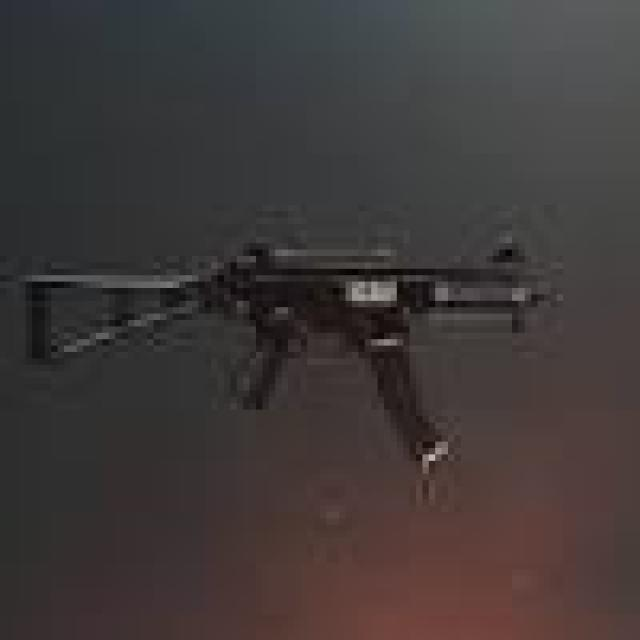Gun: (0, 185, 570, 506)
